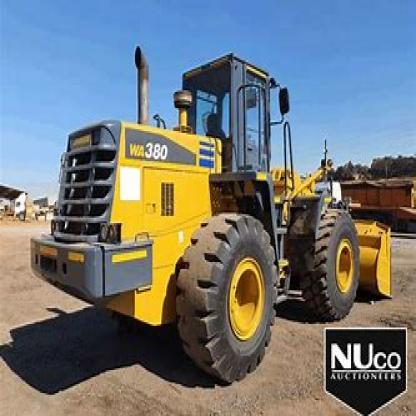bull_dozer/loader/grader: (25, 25, 405, 380)
